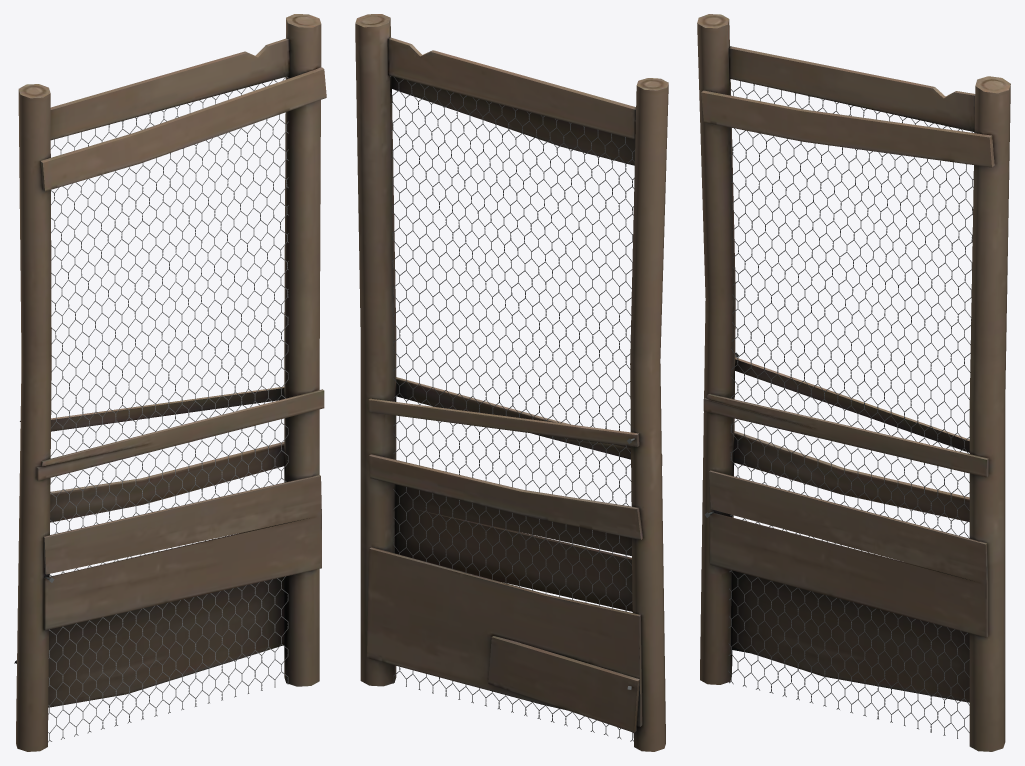
The picture shows the model from 3 angles, left to right: view 1: azimuth 30°, elevation 25°; view 2: azimuth 150°, elevation 25°; view 3: azimuth 330°, elevation 25°; orthographic projection.
Parts seen in each view (by area): view 1: body0_model0_lod0_mesh1, body0_model0_lod0_mesh0; view 2: body0_model0_lod0_mesh1, body0_model0_lod0_mesh0; view 3: body0_model0_lod0_mesh1, body0_model0_lod0_mesh0.
Part boxes in pixels (x1,y1,x2,y2): body0_model0_lod0_mesh1: [14, 14, 326, 751]; body0_model0_lod0_mesh0: [48, 76, 288, 742]; body0_model0_lod0_mesh1: [355, 14, 668, 751]; body0_model0_lod0_mesh0: [390, 76, 634, 741]; body0_model0_lod0_mesh1: [697, 14, 1010, 751]; body0_model0_lod0_mesh0: [728, 81, 974, 738].
Size of the model in its own units: 130 by 268 by 24.73.
Materials: 2 (2 with a texture image).
